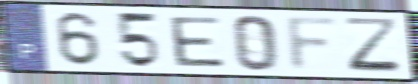0: (231, 13, 279, 72)
5: (111, 10, 162, 70)
6: (53, 10, 102, 68)
E: (166, 15, 228, 69)
F: (284, 15, 343, 73)
Z: (341, 16, 406, 75)
